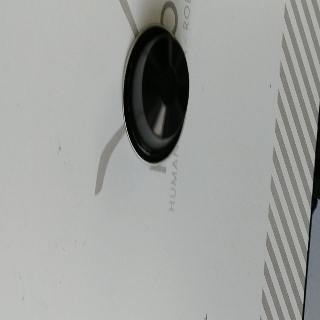capsule_10: (121, 22, 190, 165)
